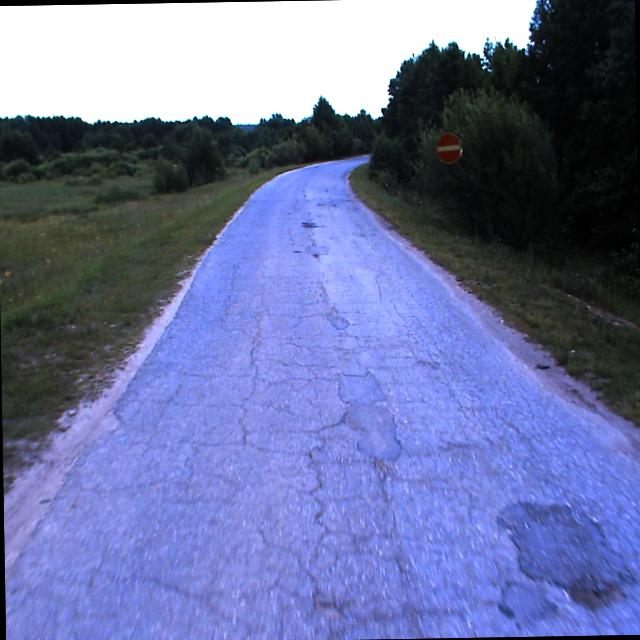road: (4, 153, 640, 640)
